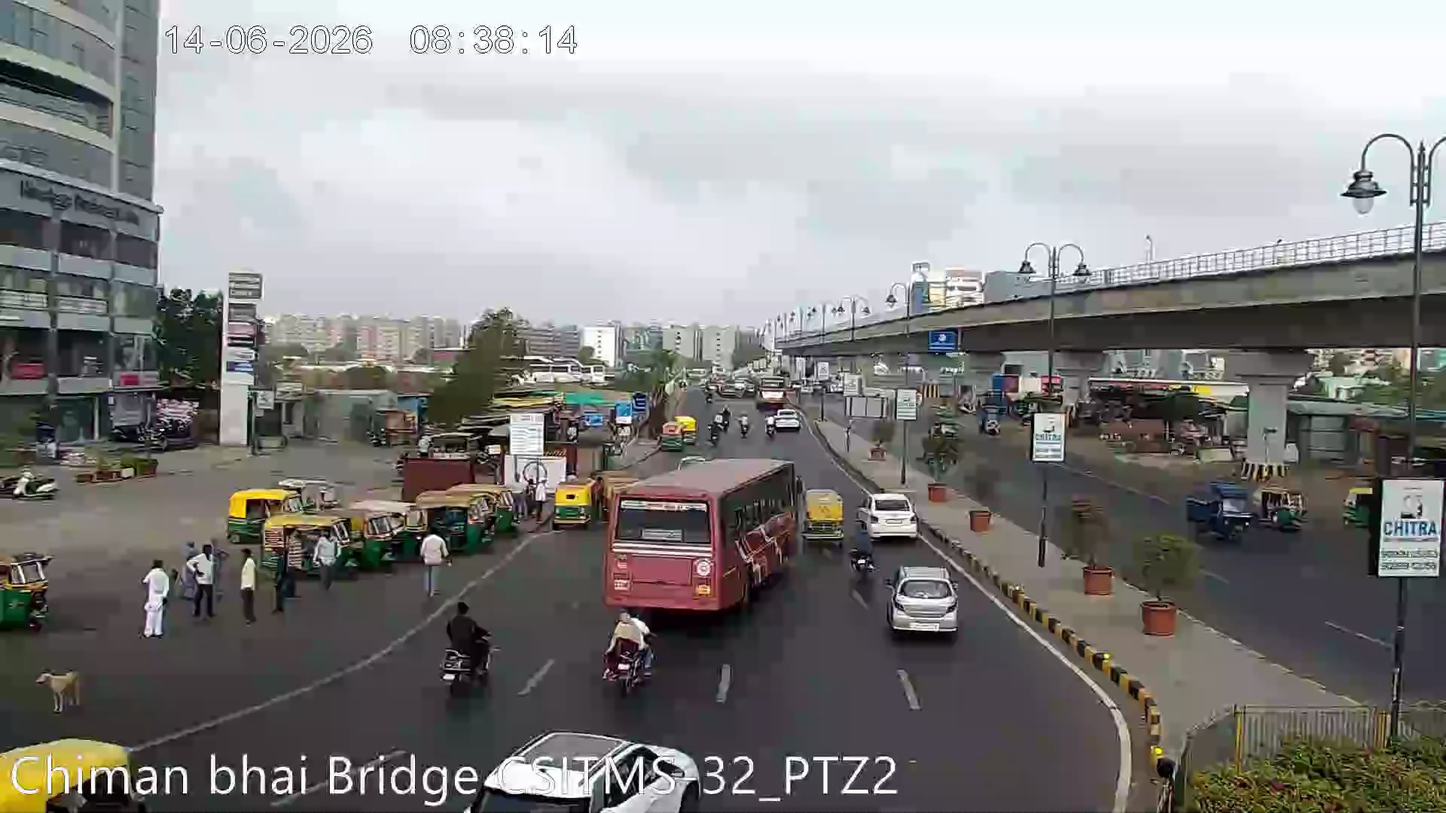auto_rickshaw: (289, 500, 406, 573), (408, 480, 512, 552), (257, 507, 363, 575), (322, 498, 413, 571), (0, 542, 53, 629), (224, 482, 299, 539), (457, 481, 524, 537), (1254, 482, 1308, 531), (805, 487, 845, 537), (550, 480, 593, 525), (661, 413, 698, 449)
bus: (601, 453, 799, 611)
car: (886, 561, 961, 639), (859, 487, 920, 539), (770, 403, 804, 431)
pedestrian: (135, 552, 175, 646), (187, 543, 217, 626), (235, 547, 261, 627), (272, 559, 297, 619), (708, 408, 727, 446), (738, 410, 754, 442)
truck: (1184, 475, 1258, 551)
two_wheeler: (434, 600, 500, 702), (597, 610, 660, 698), (848, 541, 878, 594)
